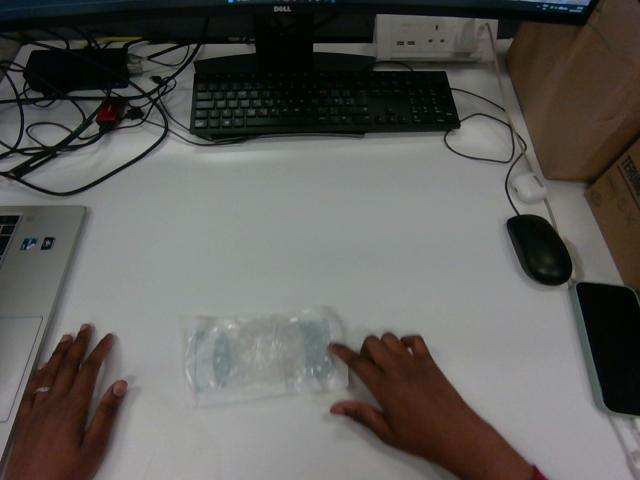gallipot: (185, 307, 347, 406)
